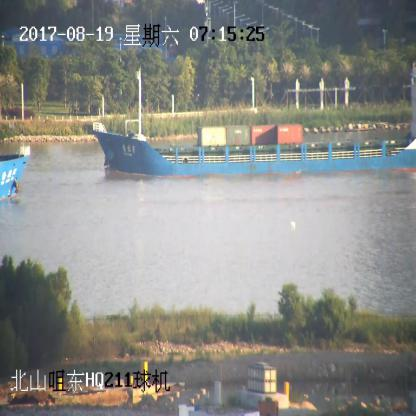Bulk Carrier: (92, 73, 416, 178), (0, 148, 30, 200)
